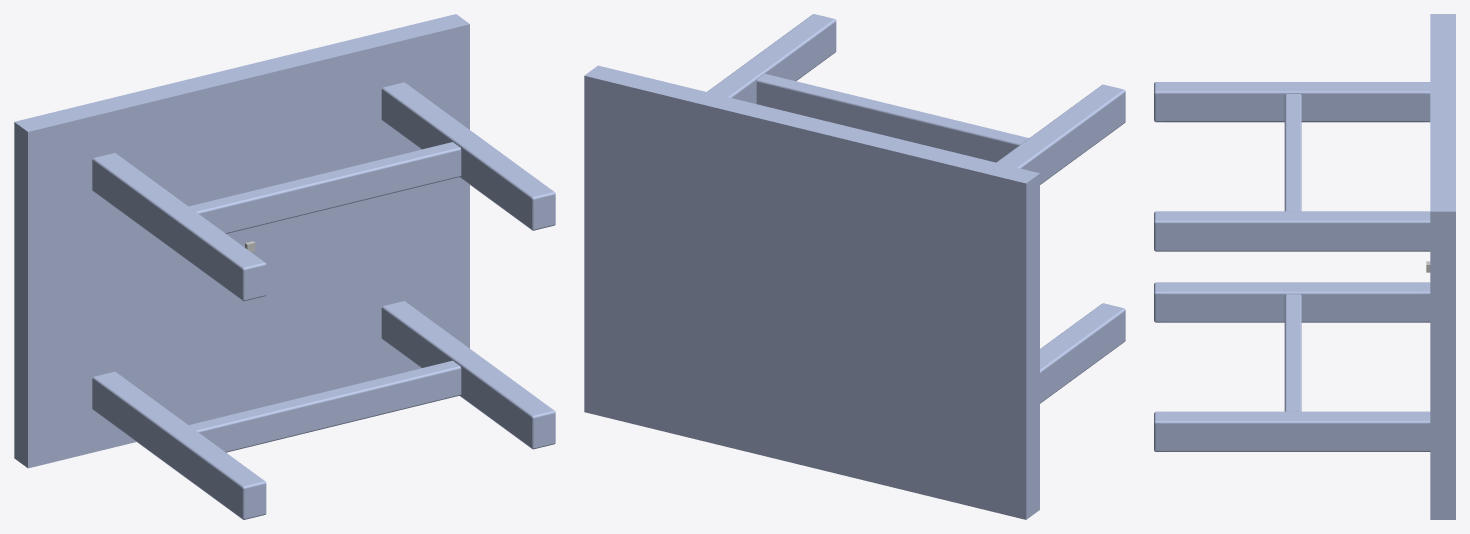
The model's file is VIS_Table_11.dae.
3 renders of one model, left to right at view 1: azimuth 30°, elevation 25°; view 2: azimuth 150°, elevation 25°; view 3: azimuth 270°, elevation 25°, orthographic. The views are drawn at different scales.
Visible parts, largest first — view 1: VIS_Table_11; view 2: VIS_Table_11; view 3: VIS_Table_11.
Part boxes in pixels (<box>): VIS_Table_11: <box>14,14,555,519</box>; VIS_Table_11: <box>584,14,1125,519</box>; VIS_Table_11: <box>1154,14,1455,519</box>.
Size of the model in its own units: 110 by 71 by 80.
